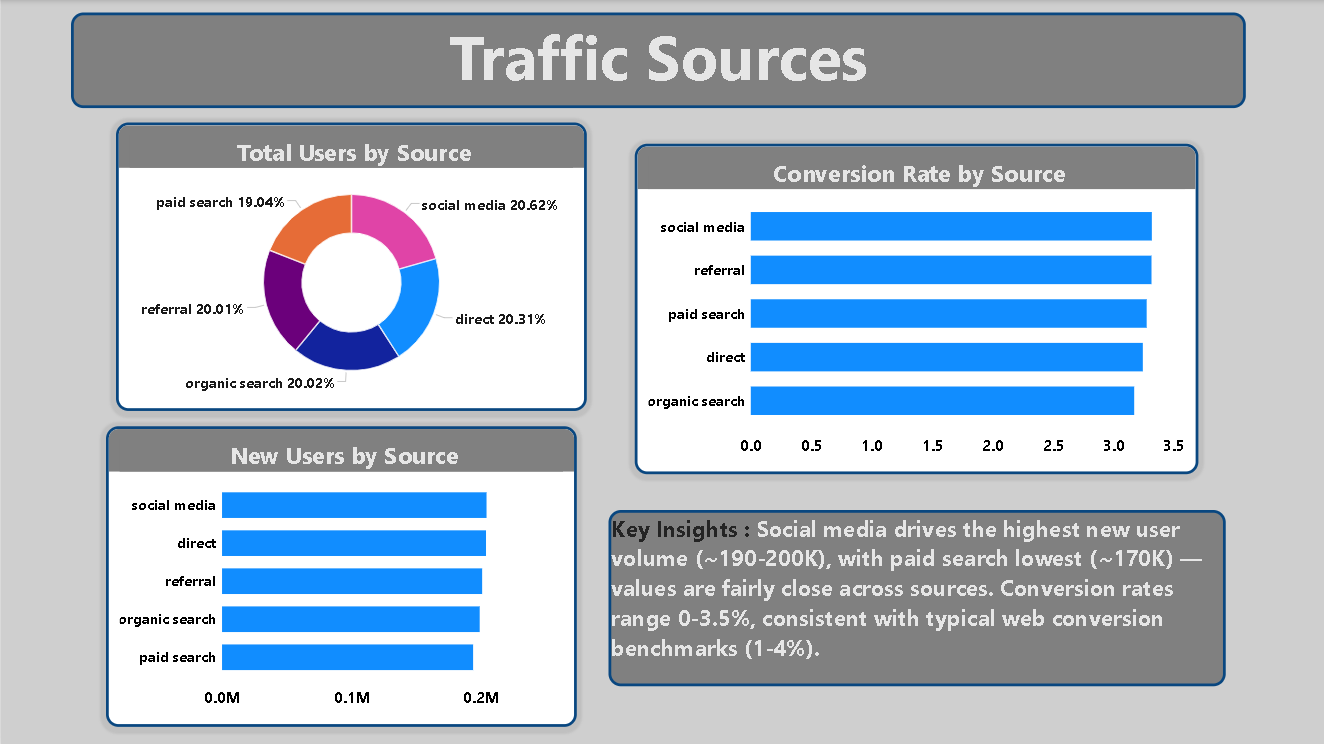

The page's visual inventory and layout, read from the dashboard file:
{"tool":"powerbi","page":{"name":"Traffic Sources","canvas":[1920,1080],"ordinal":1},"visuals":[{"type":"clusteredBarChart","title":"New Users by Source","fields":{"Category":["cleaned_traffic_data.Source"],"Y":["Sum(cleaned_traffic_data.New Users)"]},"box":[151.5,616.8,681.7,435],"z":0},{"type":"barChart","fields":{"Category":["cleaned_traffic_data.Source"],"Y":["cleaned_traffic_data.Conversion Rate"]},"box":[917.6,207.8,815.9,478.3],"z":1000},{"type":"donutChart","fields":{"Category":["cleaned_traffic_data.Source"],"Y":["cleaned_traffic_data.Total Users"]},"box":[166.6,177.5,681.7,417.7],"z":2000},{"type":"textbox","box":[878.6,738,893.8,255.4],"z":2001},{"type":"textbox","box":[101.7,17.3,1701,138.5],"z":2002}]}

Visuals, with their boxes in screenshot pixels (x1, y1, x2, y2), scaled from the page's 1920x1080 canvas onto the 1324x744 screenshot:
"New Users by Source" clusteredBarChart: 104:425:575:725
barChart - cleaned_traffic_data.Source x cleaned_traffic_data.Conversion Rate: 633:143:1195:473
donutChart - cleaned_traffic_data.Source x cleaned_traffic_data.Total Users: 115:122:585:410
textbox: 606:508:1222:684
textbox: 70:12:1243:107
